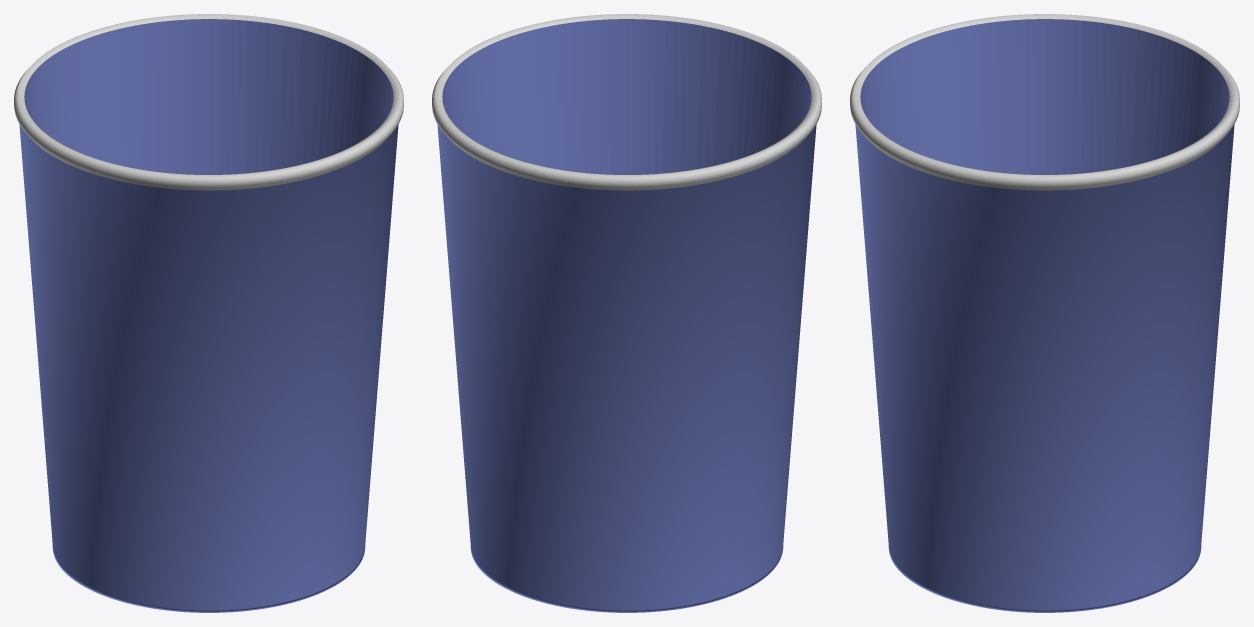
The model's file is cup.fbx.
The picture shows the model from 3 angles, left to right: view 1: azimuth 30°, elevation 25°; view 2: azimuth 150°, elevation 25°; view 3: azimuth 270°, elevation 25°; orthographic projection.
Visible parts, largest first — view 1: Cylinder; view 2: Cylinder; view 3: Cylinder.
Part boxes in pixels (box(x1,y1,x2,y2)): Cylinder: box(14, 14, 403, 612); Cylinder: box(432, 14, 821, 612); Cylinder: box(850, 14, 1239, 612).
Bounding box in the file's own units: 250 × 319 × 250.
